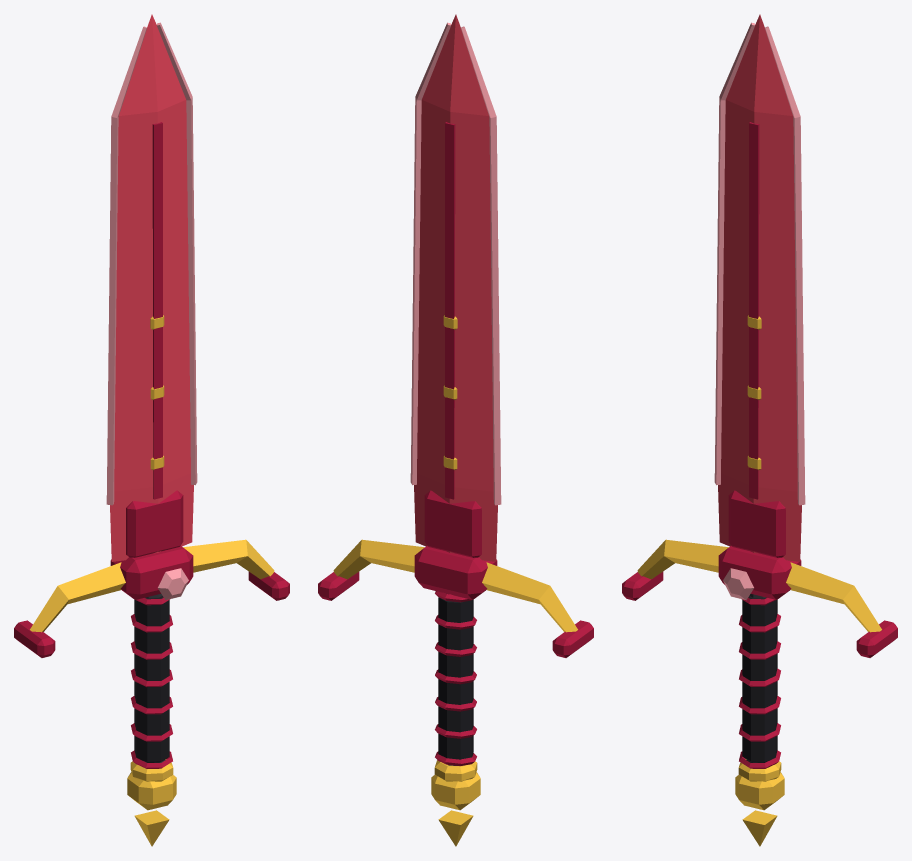
Rendered from RubyGreatsword.fbx.
3 renders of one model, left to right at view 1: azimuth 30°, elevation 25°; view 2: azimuth 150°, elevation 25°; view 3: azimuth 330°, elevation 25°, orthographic.
Visible parts, largest first — view 1: RubyGreatsword; view 2: RubyGreatsword; view 3: RubyGreatsword.
Part boxes in pixels (x1,y1,x2,y2): RubyGreatsword: (14,14,289,846); RubyGreatsword: (318,14,593,846); RubyGreatsword: (622,14,897,846).
Bounding box in the file's own units: 2.26 × 7.12 × 0.6.
Materials: 1 (1 with a texture image).
